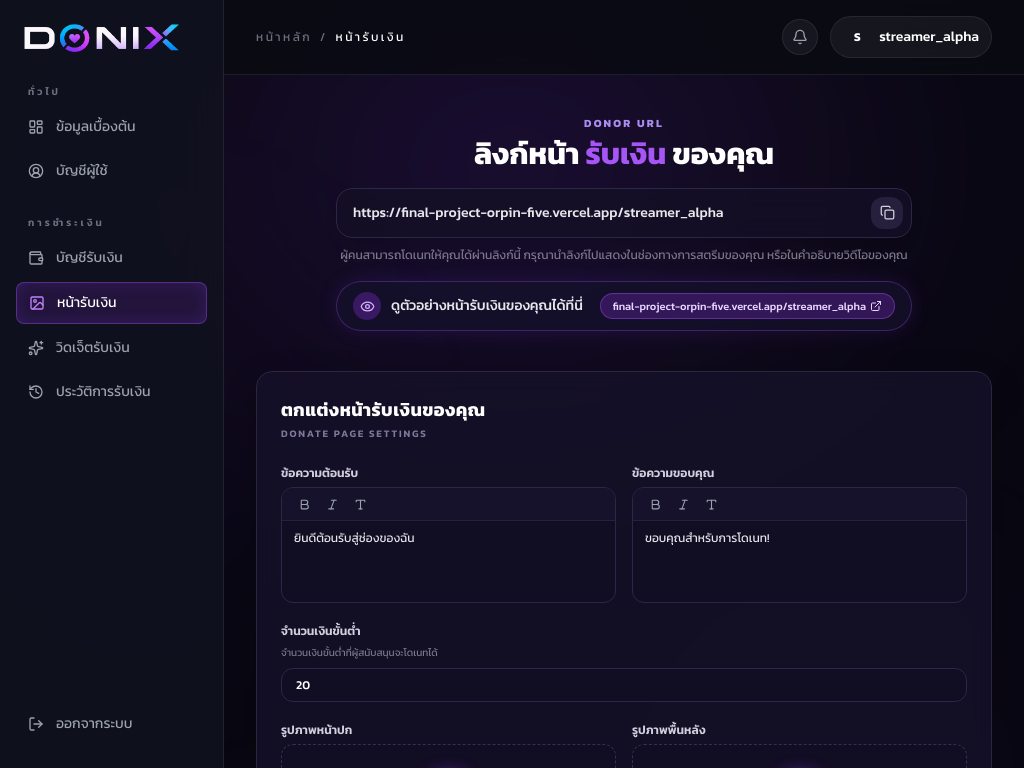
Test: DonatePage Integration › saves DecorateSection successfully and shows feedback toast
Expected: the text box showing "ยินดีต้อนรับสู่ช่องของฉัน" is shown, [282,521,615,596]
Step 1. Replace the text in the number field labelled "จำนวนเงินขั้นต่ำ" with "50" → (624, 684), box [281,668,967,702]
(page scrolled)
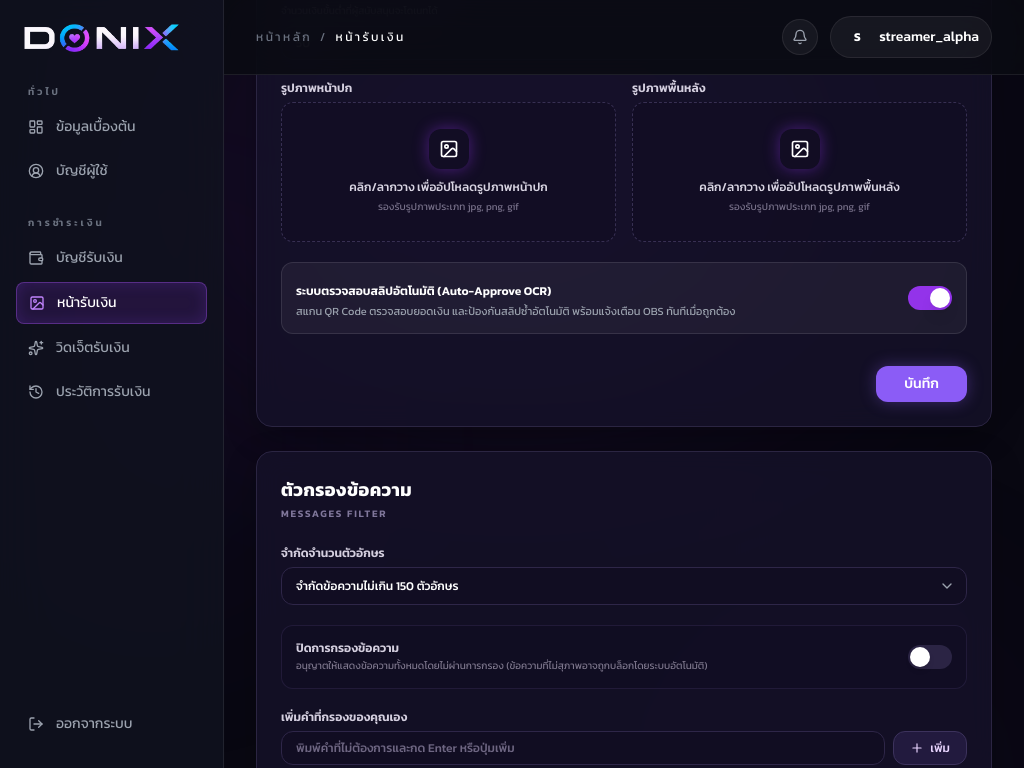
Note: Click the first save button (DecorateSection)
Step 2. Click the button "บันทึก" → (922, 384), box [876,366,967,402]
(page scrolled)
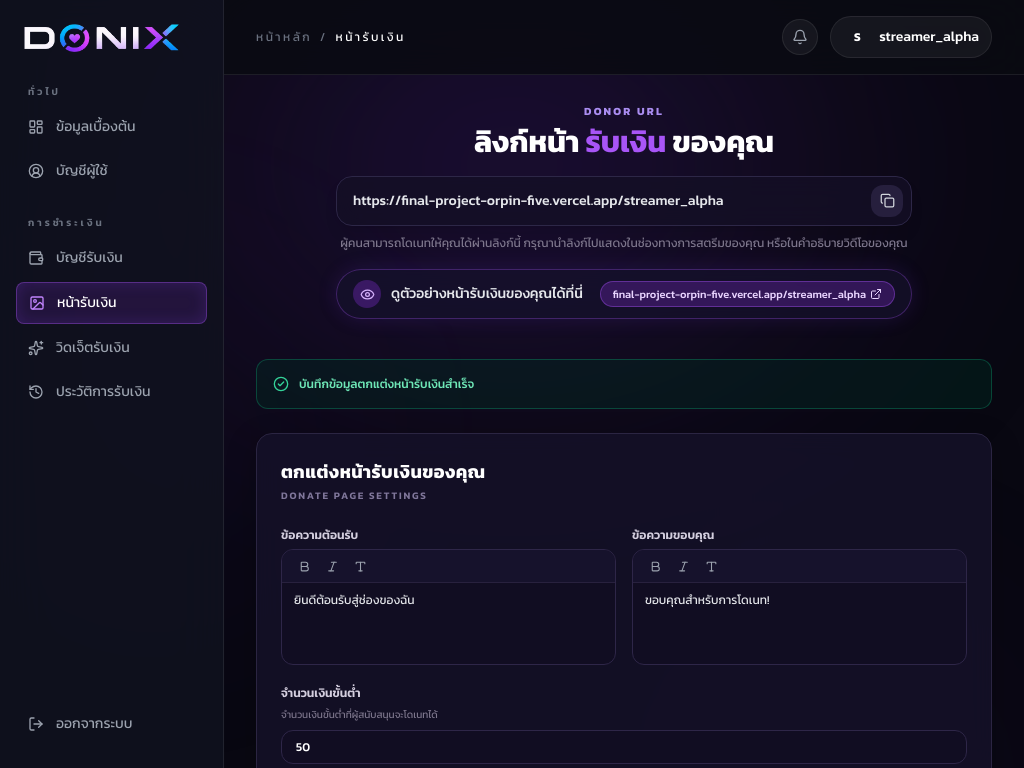
Expected: the text "บันทึกข้อมูลตกแต่งหน้ารับเงินสำเร็จ" is shown, [299,376,474,392]
